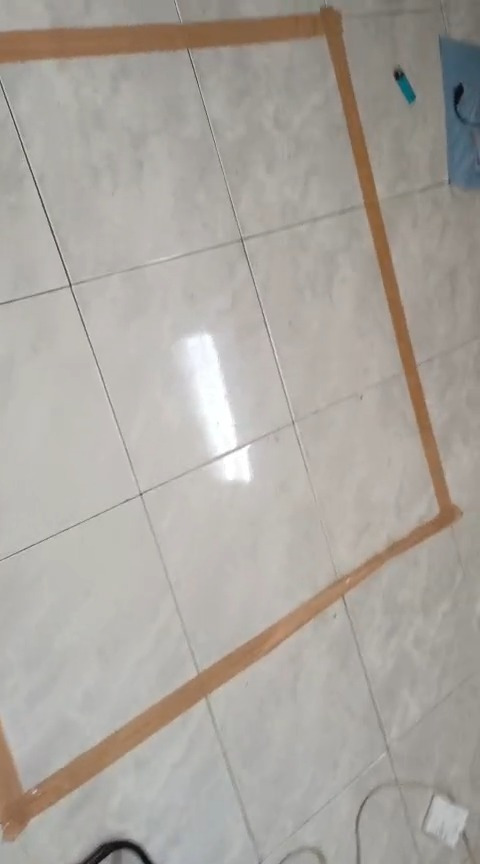floor marking: (0, 7, 460, 838)
